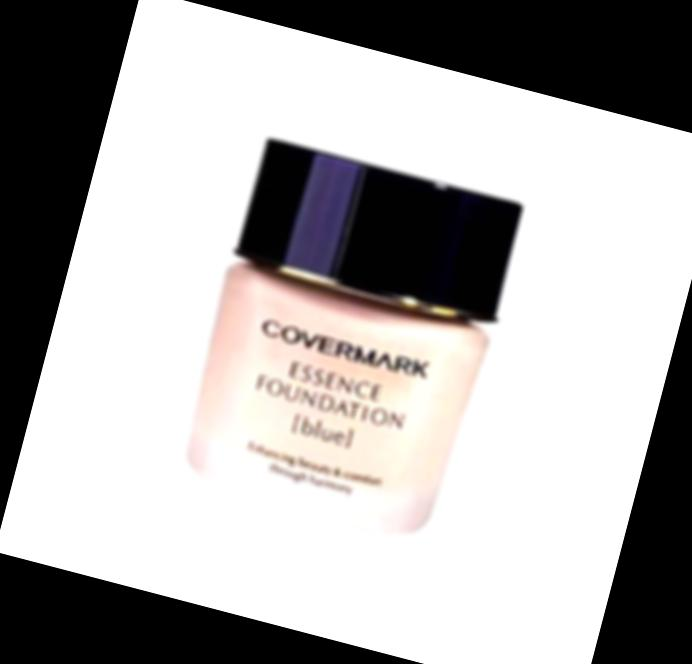cosmetic: (170, 135, 529, 546)
